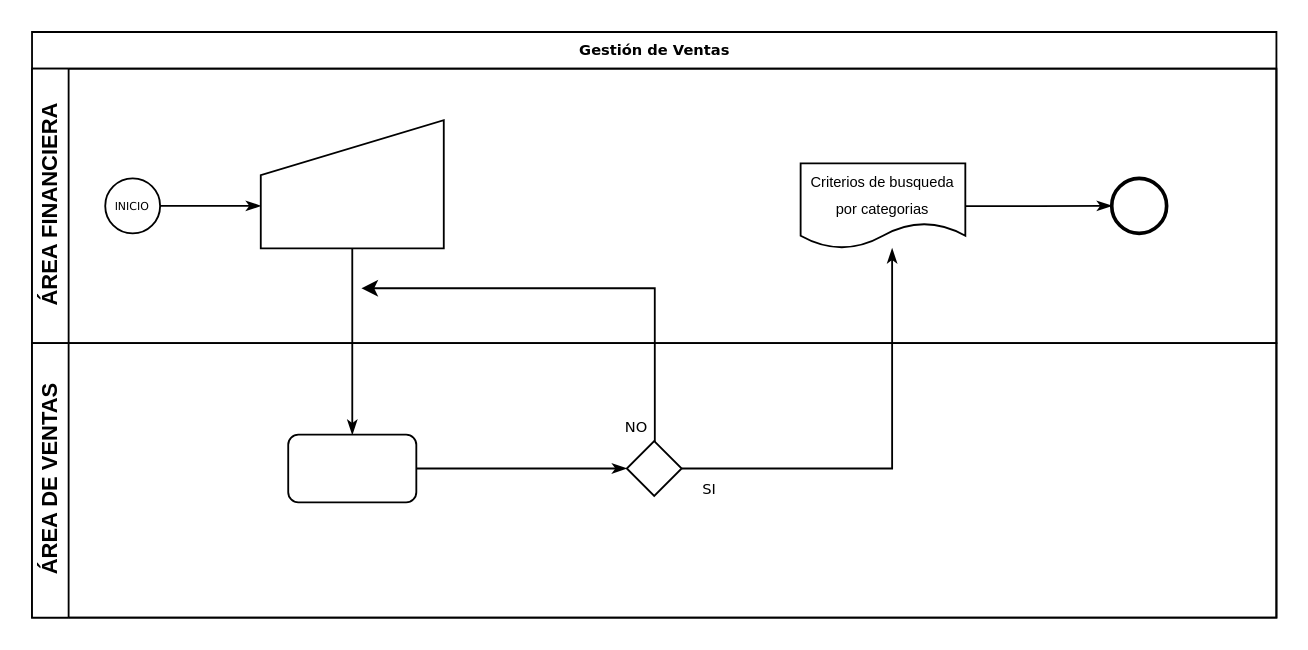
The diagram is 1308 pixels wide and 650 high, and some of its shapes have lost their labels. Here are the shapes that lost their labels. From the top down, the box of each, then its label:
(259, 118, 444, 248): Catalogo de productos
(1109, 176, 1168, 234): FIN
(286, 433, 416, 502): Filtros de busqueda
